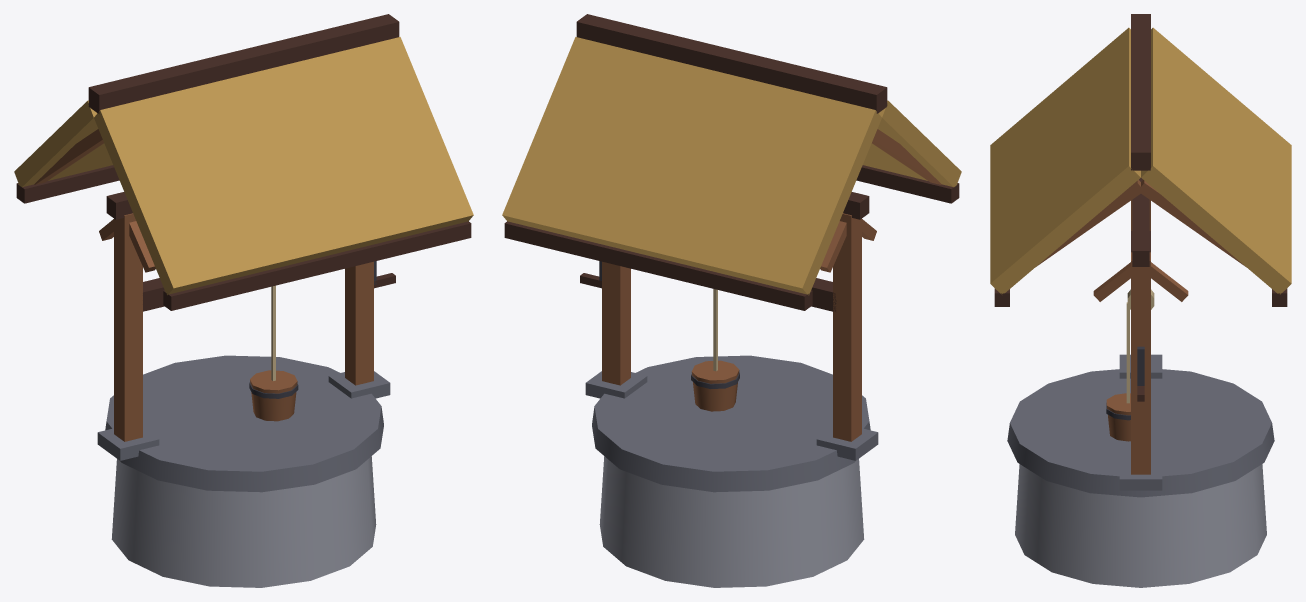
File: well.glb
The picture shows the model from 3 angles, left to right: view 1: azimuth 30°, elevation 25°; view 2: azimuth 150°, elevation 25°; view 3: azimuth 270°, elevation 25°; orthographic projection. The views are drawn at different scales.
Parts seen in each view (by area): view 1: well_wall; view 2: well_wall; view 3: well_wall.
Part boxes in pixels (bbox=[...]): well_wall: bbox=[14, 14, 473, 587]; well_wall: bbox=[502, 14, 961, 587]; well_wall: bbox=[990, 14, 1291, 587].
Bounding box in the file's own units: 2.6 × 3.95 × 2.39.
